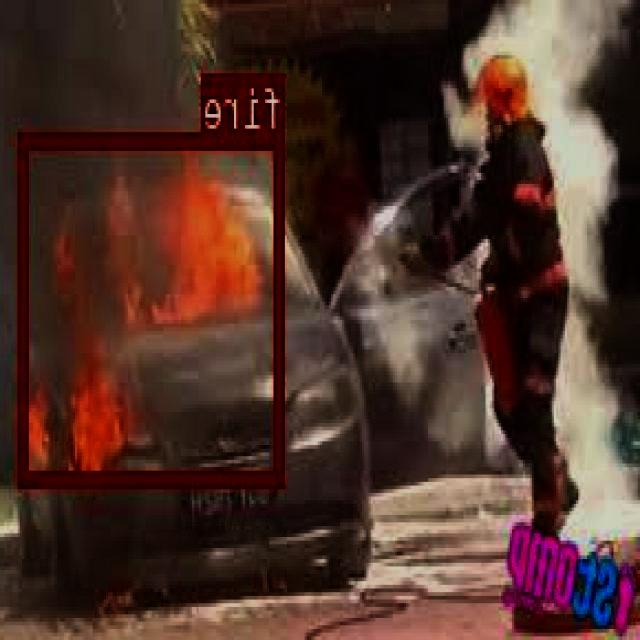fire: (20, 130, 286, 484)
